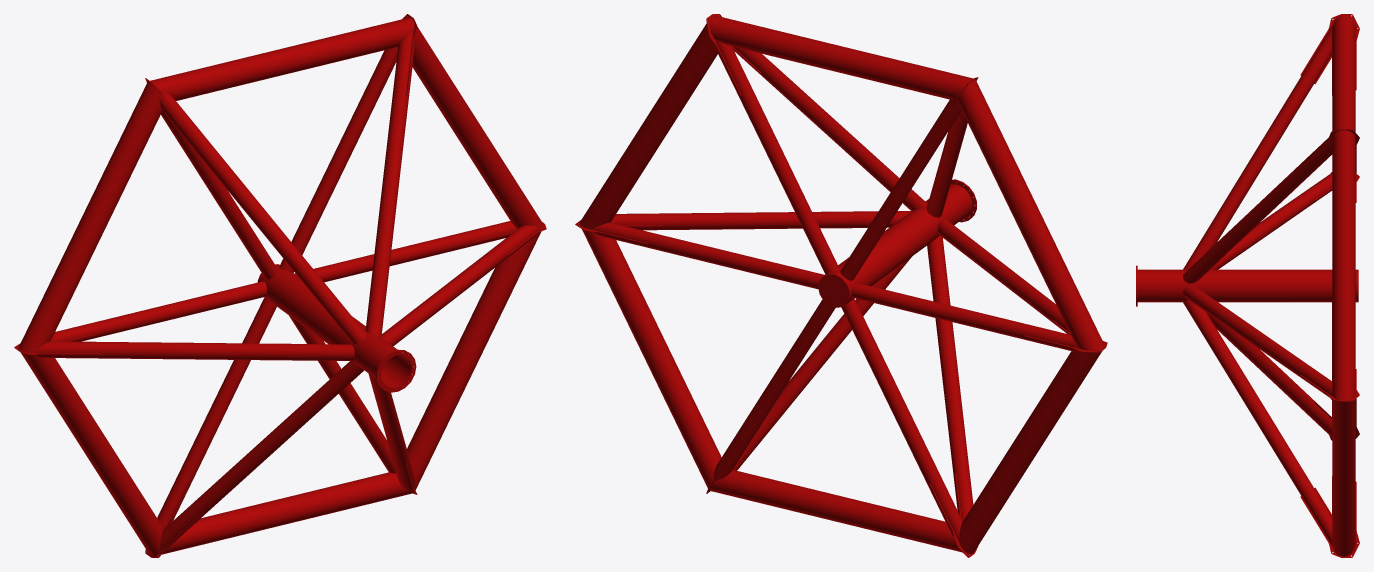
3 views of the same model, side by side, from view 1: azimuth 30°, elevation 25°; view 2: azimuth 150°, elevation 25°; view 3: azimuth 270°, elevation 25° (orthographic). The views are drawn at different scales.
Parts seen in each view (by area): view 1: Solido1; view 2: Solido1; view 3: Solido1.
Boxes of the visible parts, x1,y1,x2,y2 form: Solido1: [14, 14, 546, 557]; Solido1: [575, 14, 1107, 557]; Solido1: [1136, 14, 1359, 557].
Size of the model in its own units: 11774 by 10201 by 4825.
